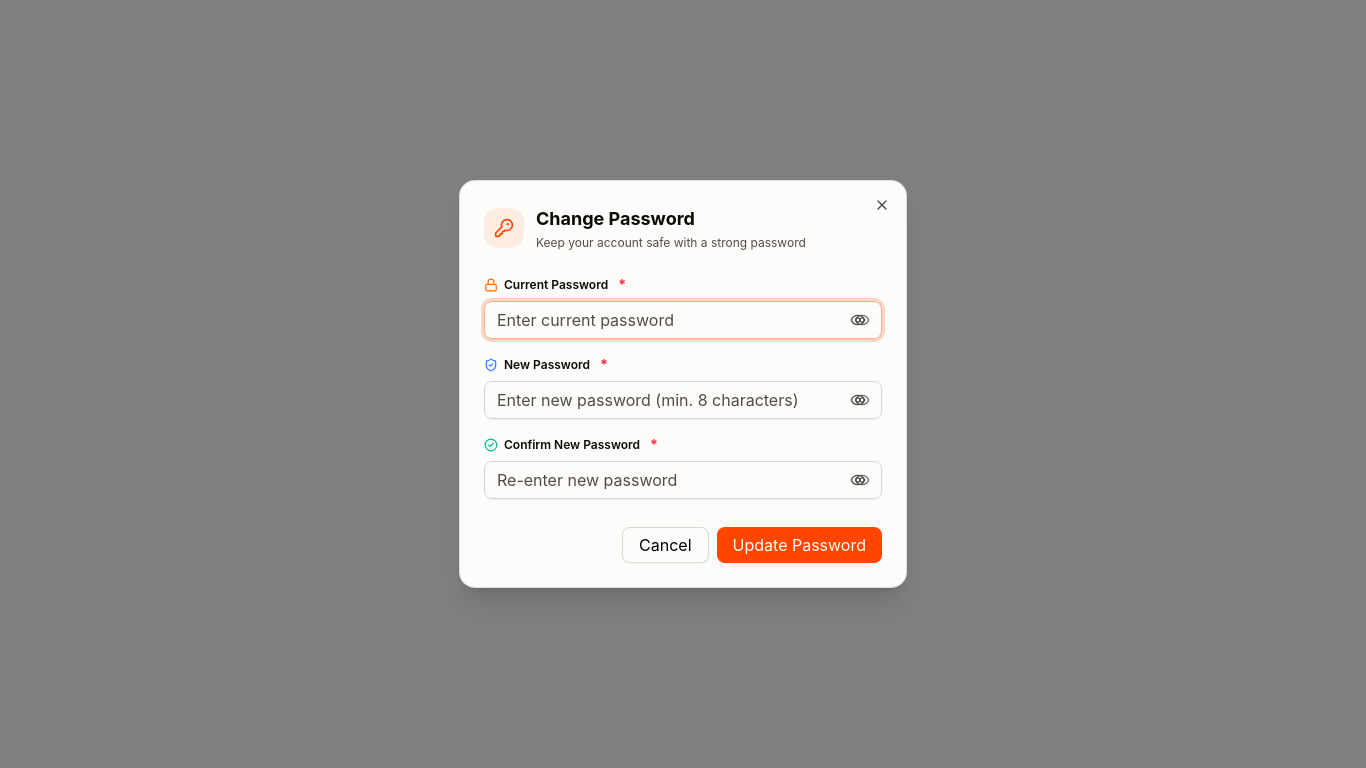
Test case: ChangePasswordDialog › shows validation error when current password is empty
What coordinates should you click on to do the following:
click the button "Update Password"
I would click on:
 (799, 545)
Its box is 717,527 -> 882,563.
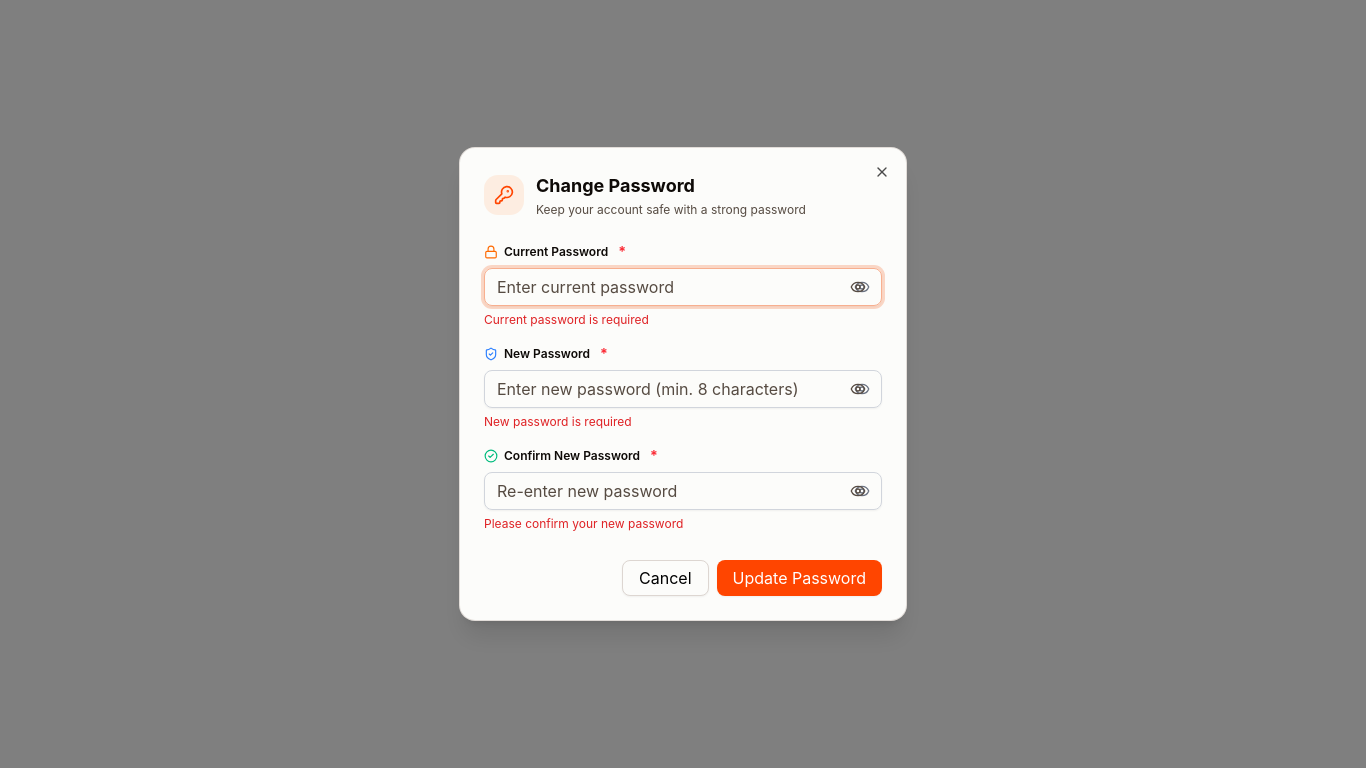
expect the text "Current password is required" is shown: met, box 484,312 -> 649,327
